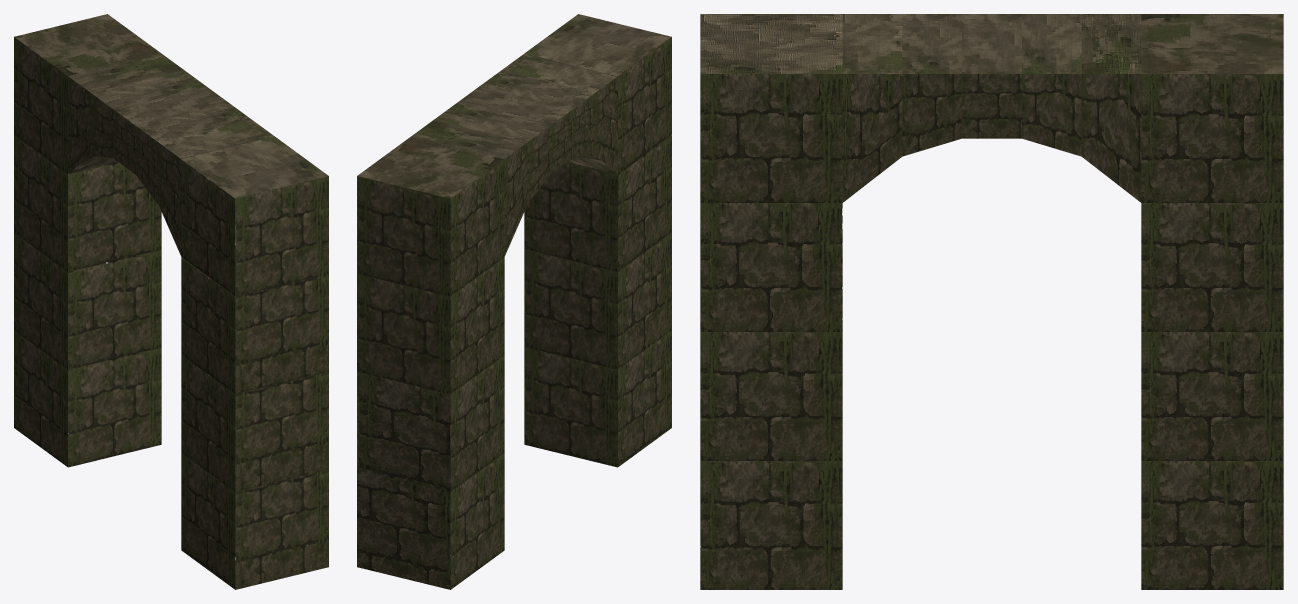
Rendered from bridge.gltf.
3 views of the same model, side by side, from view 1: azimuth 30°, elevation 25°; view 2: azimuth 150°, elevation 25°; view 3: azimuth 270°, elevation 25° (orthographic). The views are drawn at different scales.
Visible parts, largest first — view 1: cuboid; view 2: cuboid; view 3: cuboid.
Part boxes in pixels (left/top/right/bottom): cuboid: left=14, top=14, right=328, bottom=589; cuboid: left=357, top=14, right=671, bottom=589; cuboid: left=700, top=14, right=1283, bottom=589.
Size of the model in its own units: 10 by 40 by 41.
2 materials, 1 textured.
